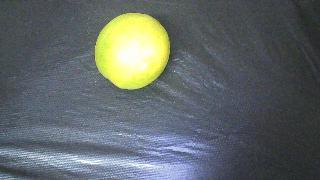LOCAL: (95, 13, 170, 90)
